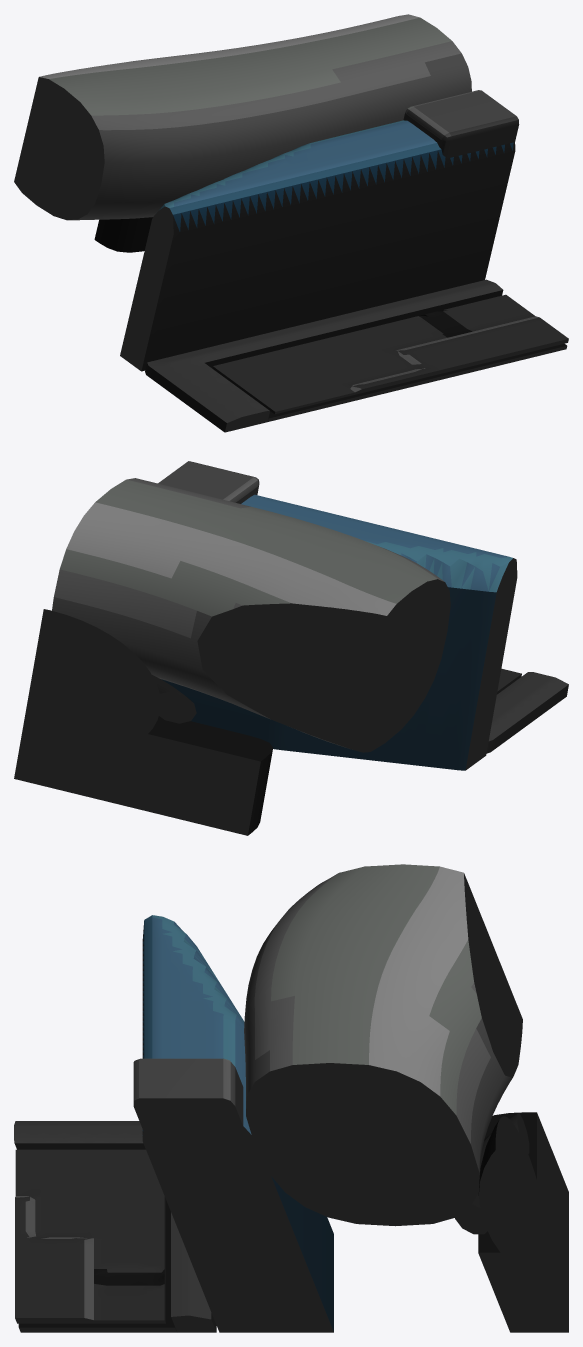
The model's file is fleet_walker_83.glb.
3 views of the same model, one above another, from view 1: azimuth 30°, elevation 25°; view 2: azimuth 150°, elevation 25°; view 3: azimuth 270°, elevation 25° (orthographic). The views are drawn at different scales.
Parts seen in each view (by area): view 1: fleet_walker_83; view 2: fleet_walker_83; view 3: fleet_walker_83.
Boxes of the visible parts, x1,y1,x2,y2 form: fleet_walker_83: [14, 14, 568, 432]; fleet_walker_83: [14, 461, 568, 835]; fleet_walker_83: [14, 864, 568, 1332].
Size of the model in its own units: 24 by 15.2 by 28.35.
